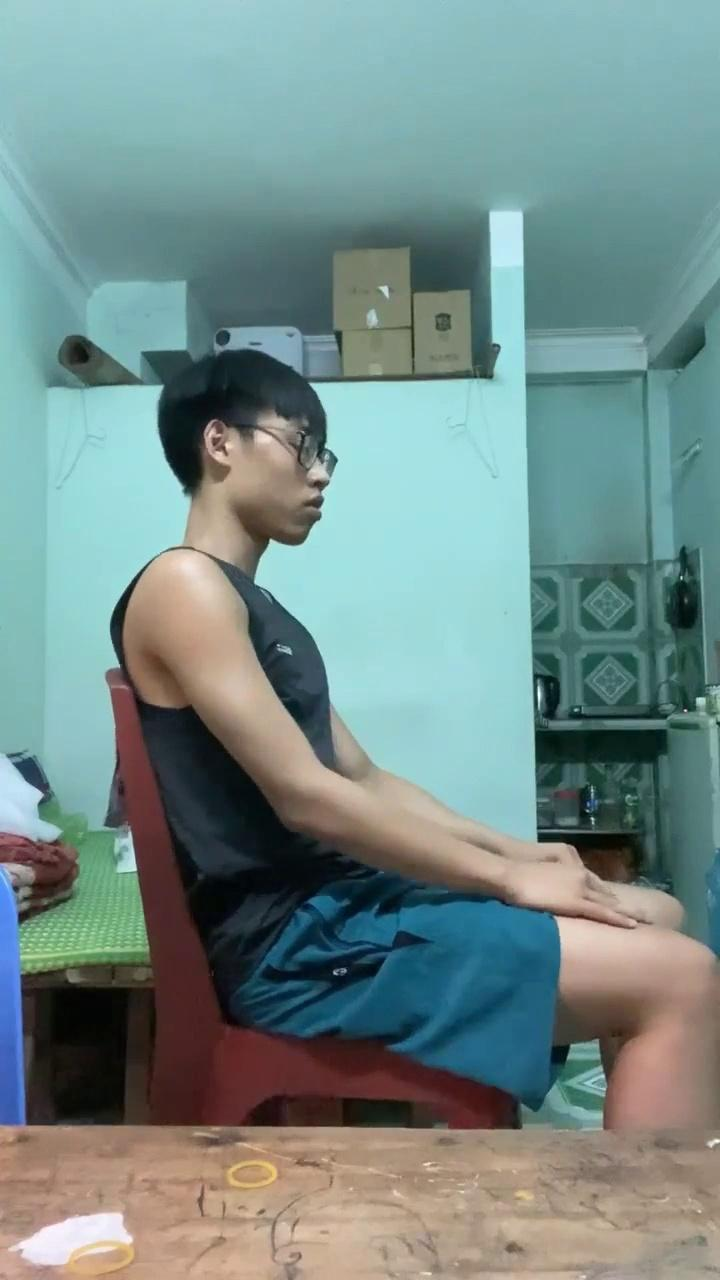GoodPosture: (112, 350, 719, 1129)
